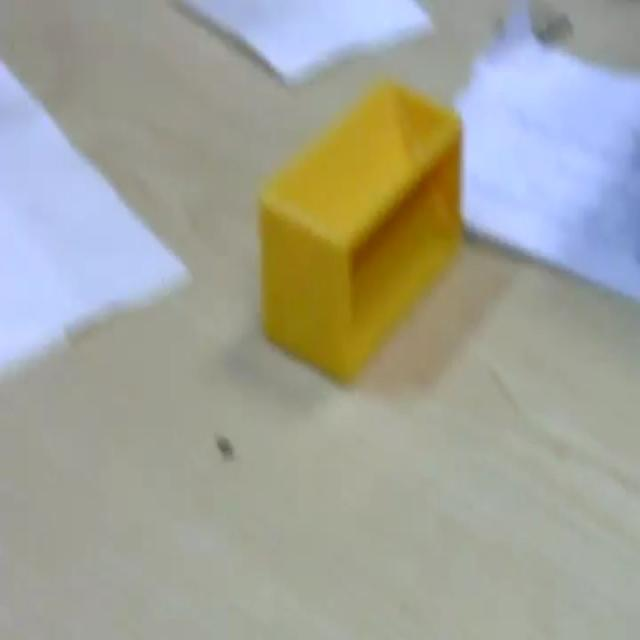yellow_block: (256, 77, 464, 384)
